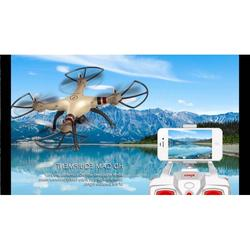drone: (9, 65, 150, 151)
